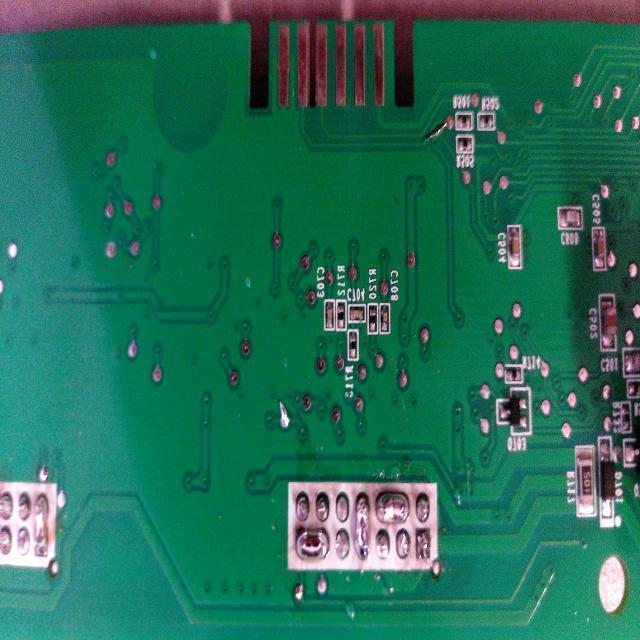Soldering shorted: (352, 487, 373, 567), (374, 484, 414, 526), (32, 485, 52, 562), (294, 528, 332, 562)
